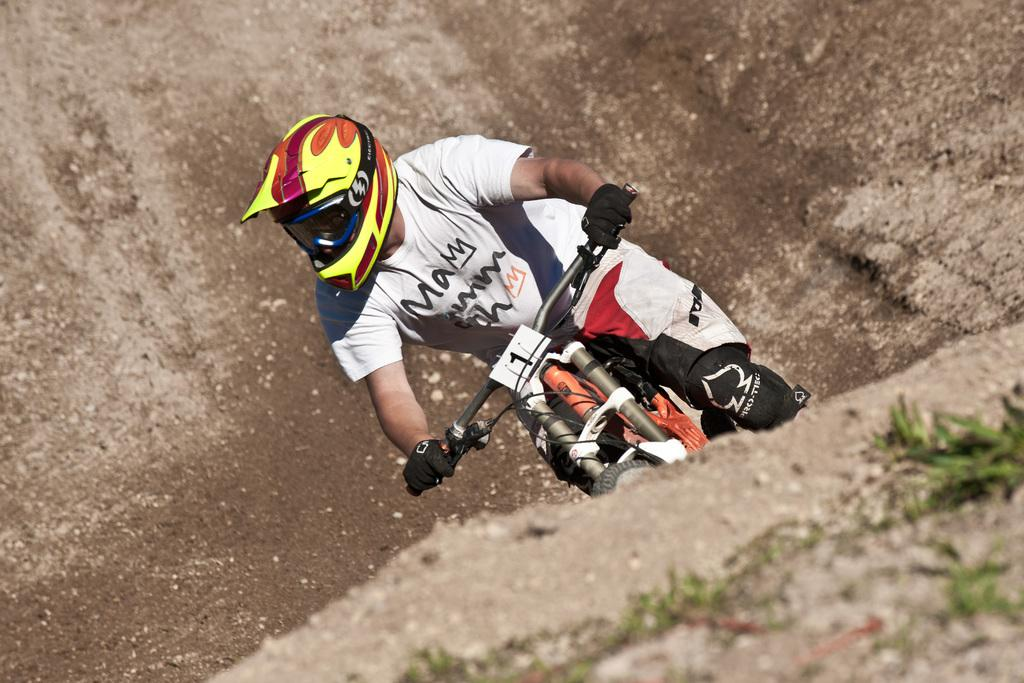helmet: (240, 114, 399, 292)
